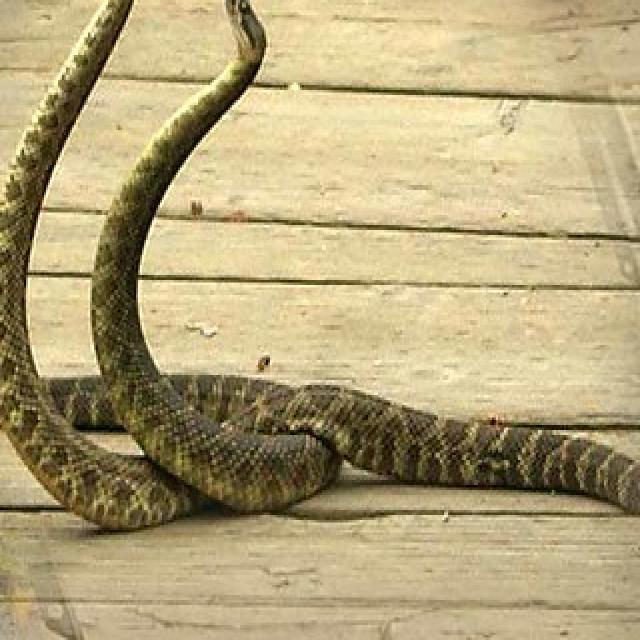Snake: (10, 0, 440, 465)
